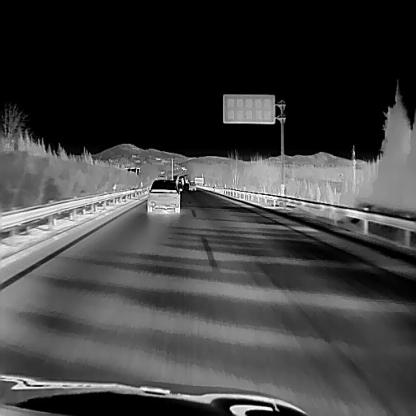car: (146, 177, 182, 214), (188, 180, 196, 190)
